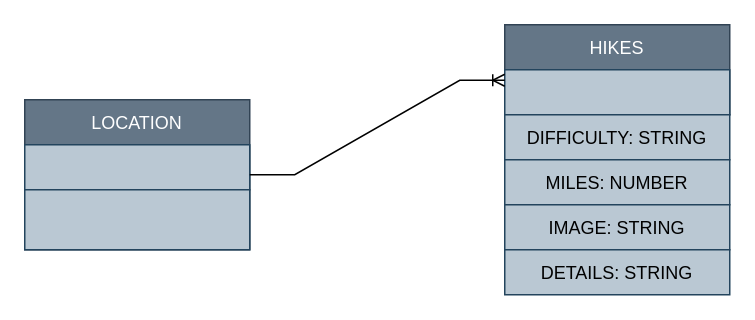
This 755x320 diagram has some shape labels left out. The shapes that lost their labels are listed below. From the top down, each one's centre as x and y in pixels, then its label:
At (616,91): "LOCATION: ID".
At (136,166): "NAME".
At (136,219): "CITIES".
